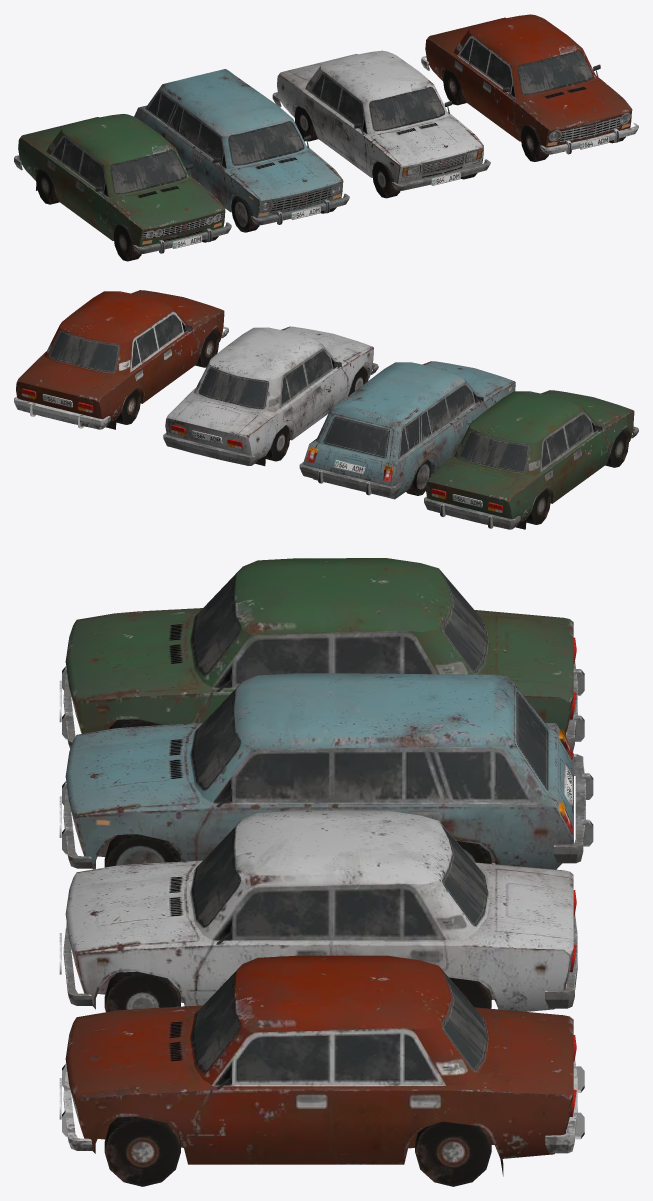
The model's file is traffic-zhiguli.01588588.glb.
3 renders of one model, top to bottom at view 1: azimuth 30°, elevation 25°; view 2: azimuth 150°, elevation 25°; view 3: azimuth 270°, elevation 25°, orthographic. The views are drawn at different scales.
Visible parts, largest first — view 1: zhiguli_green, zhiguli_red, zhiguli_gray, zhiguli_blue; view 2: zhiguli_green, zhiguli_red, zhiguli_gray, zhiguli_blue; view 3: zhiguli_red, zhiguli_blue, zhiguli_gray, zhiguli_green.
Boxes of the visible parts, bbox=[...] form: zhiguli_green: bbox=[14, 114, 231, 261]; zhiguli_red: bbox=[421, 14, 638, 161]; zhiguli_gray: bbox=[272, 50, 490, 198]; zhiguli_blue: bbox=[134, 69, 349, 232]; zhiguli_green: bbox=[424, 390, 638, 529]; zhiguli_red: bbox=[14, 290, 228, 429]; zhiguli_gray: bbox=[163, 326, 378, 465]; zhiguli_blue: bbox=[299, 361, 515, 499]; zhiguli_red: bbox=[59, 955, 584, 1186]; zhiguli_blue: bbox=[59, 673, 593, 869]; zhiguli_gray: bbox=[59, 810, 577, 1012]; zhiguli_green: bbox=[59, 558, 584, 751].
Bounding box in the file's own units: 9.29 × 1.43 × 4.25.
4 materials, 4 textured.
